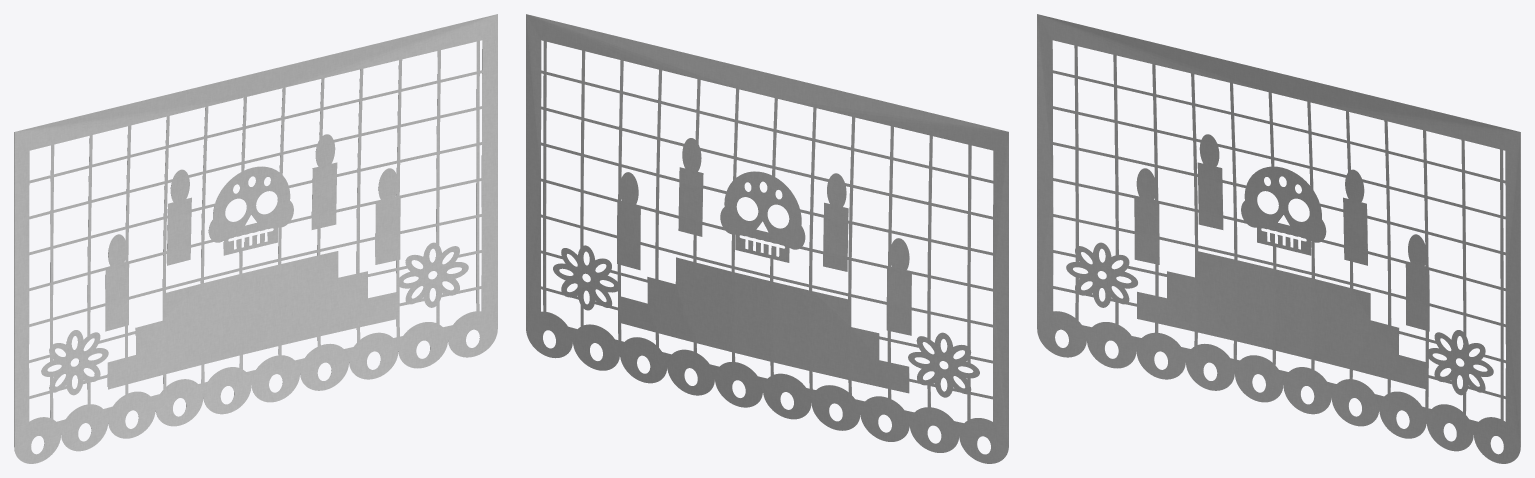
The model's file is papel_5.gltf.
3 renders of one model, left to right at view 1: azimuth 30°, elevation 25°; view 2: azimuth 150°, elevation 25°; view 3: azimuth 330°, elevation 25°, orthographic.
Parts seen in each view (by area): view 1: papel_5; view 2: papel_5; view 3: papel_5.
Part boxes in pixels (left/top/right/bottom): papel_5: left=14, top=14, right=497, bottom=463; papel_5: left=526, top=14, right=1008, bottom=463; papel_5: left=1037, top=14, right=1520, bottom=463.
Bounding box in the file's own units: 0.45 × 0.3 × 0.00903.
Materials: 1 (1 with a texture image).
